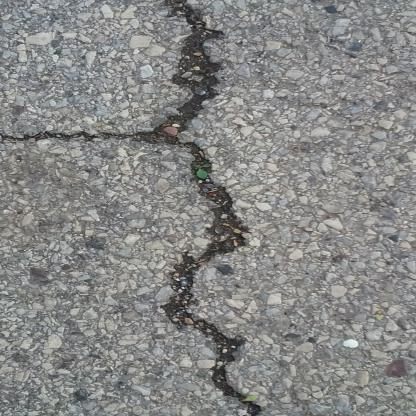Cracks: (134, 0, 267, 416), (0, 108, 135, 147)
